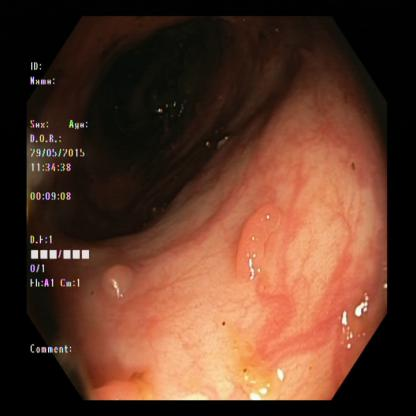Labels: (24, 52, 92, 356)
Polyps: (228, 206, 290, 278), (99, 258, 150, 316)
